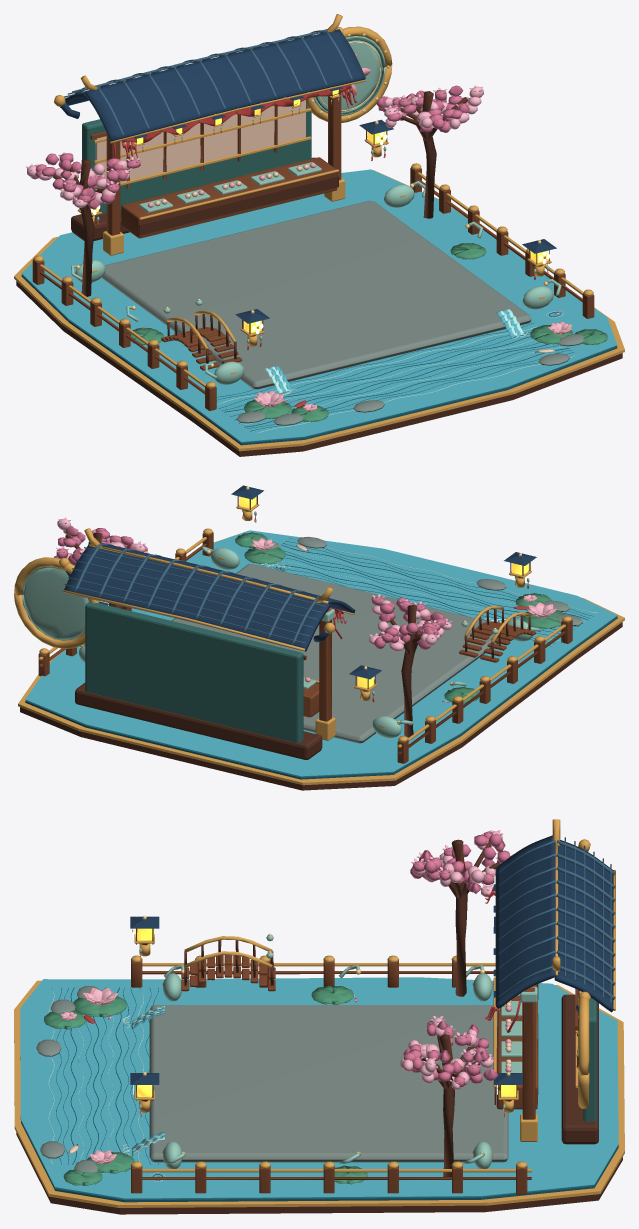
File: environment-mobile.glb
3 renders of one model, top to bottom at view 1: azimuth 30°, elevation 25°; view 2: azimuth 150°, elevation 25°; view 3: azimuth 270°, elevation 25°, orthographic. The views are drawn at different scales.
Visible parts, largest first — view 1: environment-nightmarket | merged material | 25 | pond edging, environment-nightmarket | merged material | 18 | turquoise r, environment-nightmarket | merged material | 11 | midnight gl, environment-nightmarket | merged material | 04 | warm aged i, environment-nightmarket | merged material | 02 | sculpted ra, environment-nightmarket | merged material | 01 | dark warm l, environment-nightmarket | merged material | 07 | warmly tran, environment-nightmarket | merged material | 09 | mint celado, environment-nightmarket | merged material | 17 | deep teal s, environment-nightmarket | merged material | 10 | jade inset , environment-nightmarket | merged material | 23 | pastel saku, environment-nightmarket | merged material | 24 | soft ivory  (+6 smaller); view 2: environment-nightmarket | merged material | 18 | turquoise r, environment-nightmarket | merged material | 10 | jade inset , environment-nightmarket | merged material | 25 | pond edging, environment-nightmarket | merged material | 11 | midnight gl, environment-nightmarket | merged material | 04 | warm aged i, environment-nightmarket | merged material | 01 | dark warm l, environment-nightmarket | merged material | 02 | sculpted ra, environment-nightmarket | merged material | 09 | mint celado, environment-nightmarket | merged material | 12 | rich porcel, environment-nightmarket | merged material | 17 | deep teal s, environment-nightmarket | merged material | 23 | pastel saku, environment-nightmarket | merged material | 22 | waxy lotus  (+3 smaller); view 3: environment-nightmarket | merged material | 25 | pond edging, environment-nightmarket | merged material | 18 | turquoise r, environment-nightmarket | merged material | 11 | midnight gl, environment-nightmarket | merged material | 04 | warm aged i, environment-nightmarket | merged material | 01 | dark warm l, environment-nightmarket | merged material | 02 | sculpted ra, environment-nightmarket | merged material | 12 | rich porcel, environment-nightmarket | merged material | 23 | pastel saku, environment-nightmarket | merged material | 17 | deep teal s, environment-nightmarket | merged material | 09 | mint celado, environment-nightmarket | merged material | 22 | waxy lotus , environment-nightmarket | merged material | 24 | soft ivory  (+4 smaller).
Part boxes in pixels (x1,y1,x2,y2): environment-nightmarket | merged material | 25 | pond edging: (101,200,583,425); environment-nightmarket | merged material | 18 | turquoise r: (21,169,617,442); environment-nightmarket | merged material | 11 | midnight gl: (60,29,556,323); environment-nightmarket | merged material | 04 | warm aged i: (14,14,624,451); environment-nightmarket | merged material | 02 | sculpted ra: (32,88,594,410); environment-nightmarket | merged material | 01 | dark warm l: (16,91,622,456); environment-nightmarket | merged material | 07 | warmly tran: (95,99,554,408); environment-nightmarket | merged material | 09 | mint celado: (70,36,561,384); environment-nightmarket | merged material | 17 | deep teal s: (21,274,617,445); environment-nightmarket | merged material | 10 | jade inset : (82,38,604,409); environment-nightmarket | merged material | 23 | pastel saku: (31,85,561,401); environment-nightmarket | merged material | 24 | soft ivory : (26,85,570,411); environment-nightmarket | merged material | 18 | turquoise r: (25,530,617,776); environment-nightmarket | merged material | 10 | jade inset : (85,536,522,743); environment-nightmarket | merged material | 25 | pond edging: (171,536,582,743); environment-nightmarket | merged material | 11 | midnight gl: (64,485,536,679); environment-nightmarket | merged material | 04 | warm aged i: (14,503,624,785); environment-nightmarket | merged material | 01 | dark warm l: (20,533,622,790); environment-nightmarket | merged material | 02 | sculpted ra: (38,486,572,763); environment-nightmarket | merged material | 09 | mint celado: (22,509,541,738); environment-nightmarket | merged material | 12 | rich porcel: (64,543,330,644); environment-nightmarket | merged material | 17 | deep teal s: (25,541,617,779); environment-nightmarket | merged material | 23 | pastel saku: (54,526,519,702); environment-nightmarket | merged material | 22 | waxy lotus : (235,532,564,703); environment-nightmarket | merged material | 25 | pond edging: (36,986,508,1172); environment-nightmarket | merged material | 18 | turquoise r: (20,977,618,1198); environment-nightmarket | merged material | 11 | midnight gl: (130,835,614,1084); environment-nightmarket | merged material | 04 | warm aged i: (14,819,624,1207); environment-nightmarket | merged material | 01 | dark warm l: (16,839,622,1214); environment-nightmarket | merged material | 02 | sculpted ra: (131,917,579,1194); environment-nightmarket | merged material | 12 | rich porcel: (497,837,615,1003); environment-nightmarket | merged material | 23 | pastel saku: (108,831,510,1180); environment-nightmarket | merged material | 17 | deep teal s: (20,987,618,1202); environment-nightmarket | merged material | 09 | mint celado: (139,935,537,1168); environment-nightmarket | merged material | 22 | waxy lotus : (44,985,367,1185); environment-nightmarket | merged material | 24 | soft ivory : (63,830,513,1163).
Bounding box in the file's own units: 8.84 × 3.8 × 9.81.
